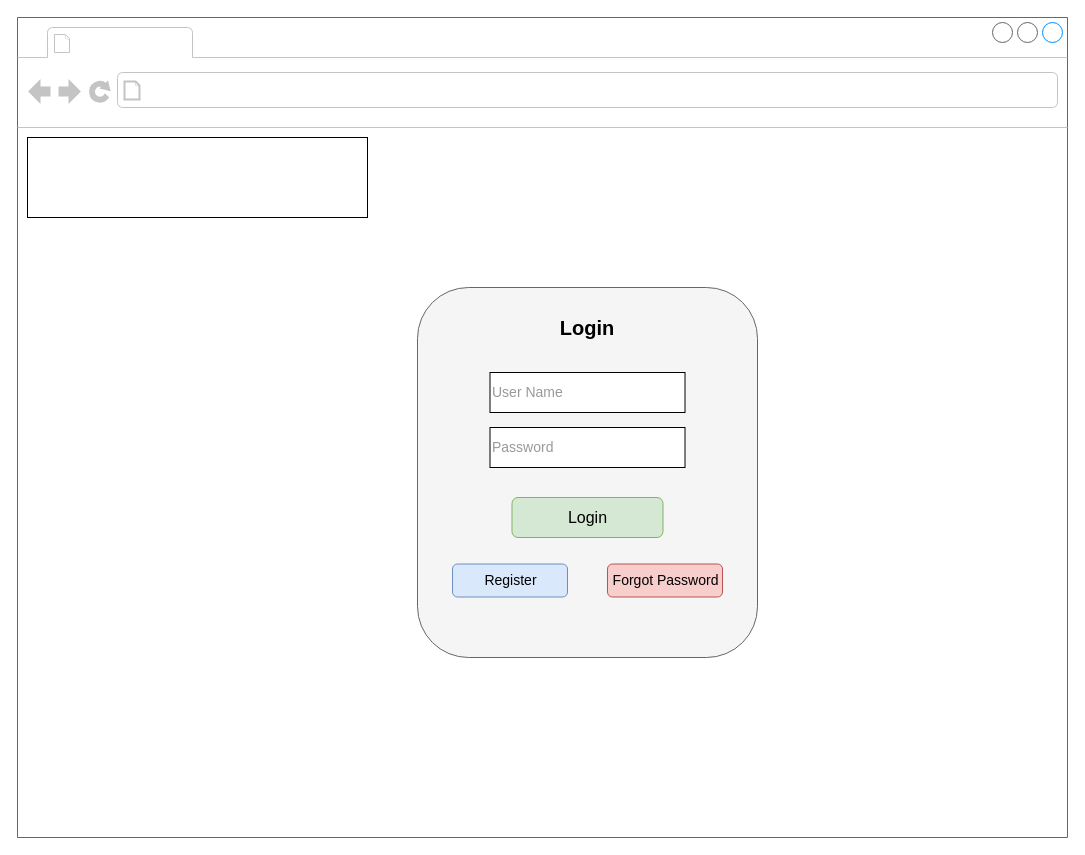
Some shapes in this 1085 by 855 pixel diagram are drawn without their labels. The shapes that lost their labels are listed below. From the top down, each one's box as (x1, y1, x2, y2) in pixels, then its label:
(76, 28, 188, 56): Page 1
(146, 76, 398, 104): https://www.default.com
(26, 136, 368, 218): Logo Area
